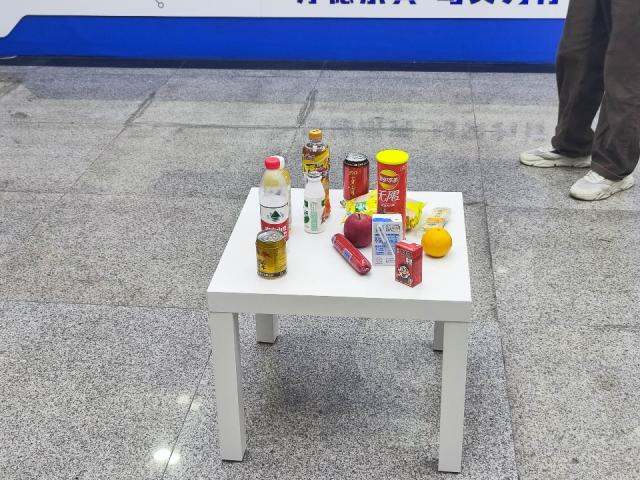Canned_drinks: (253, 232, 294, 280), (341, 147, 368, 197)
bottle: (260, 157, 290, 232)
drink_box: (372, 211, 402, 270), (394, 241, 425, 292)
